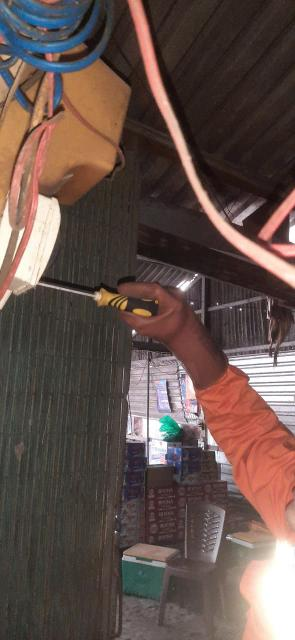gloves: (118, 265, 238, 400)
